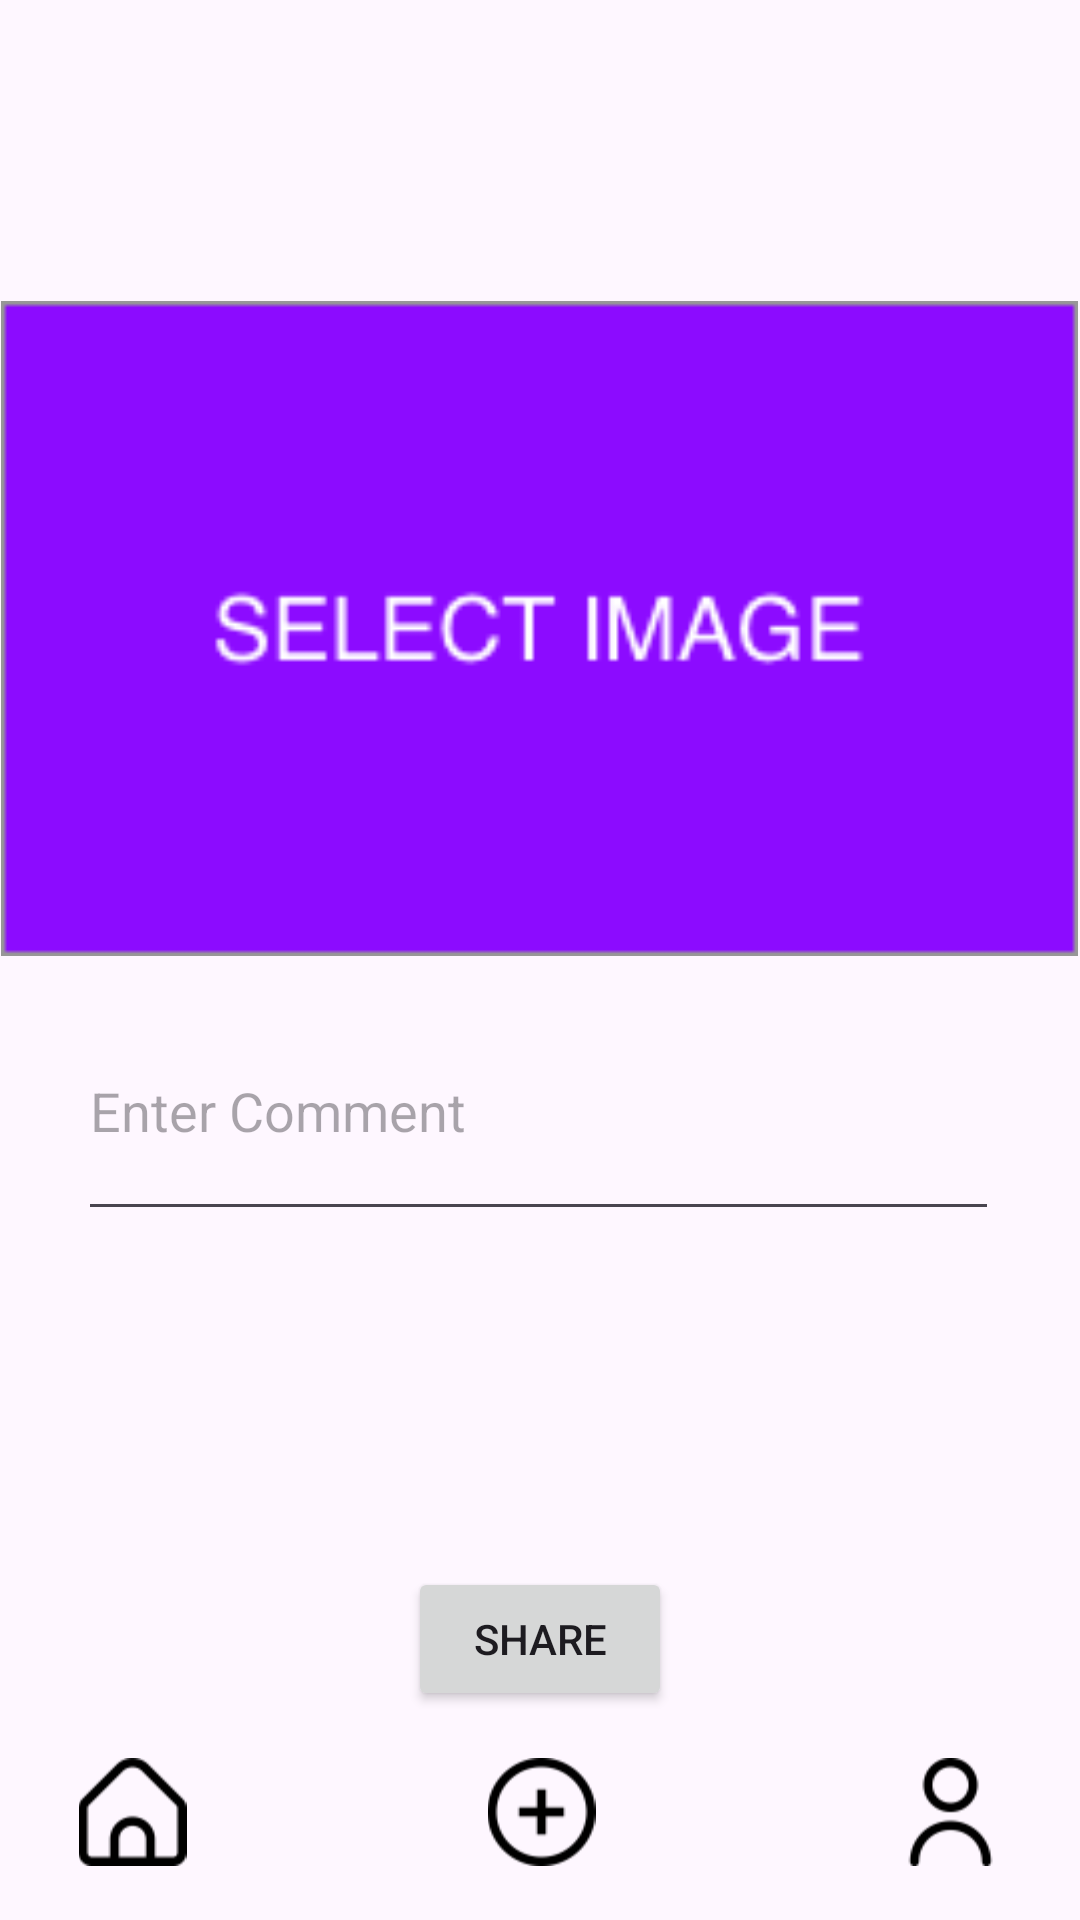

Point at icon controls on the screen. Image size 1080px x 1920px, points as [x,y].
add: [542,1812]
